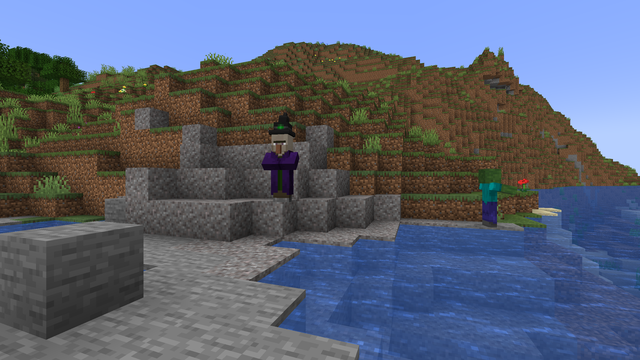sorcieres: (267, 130, 295, 202)
zombies: (477, 170, 501, 228)
